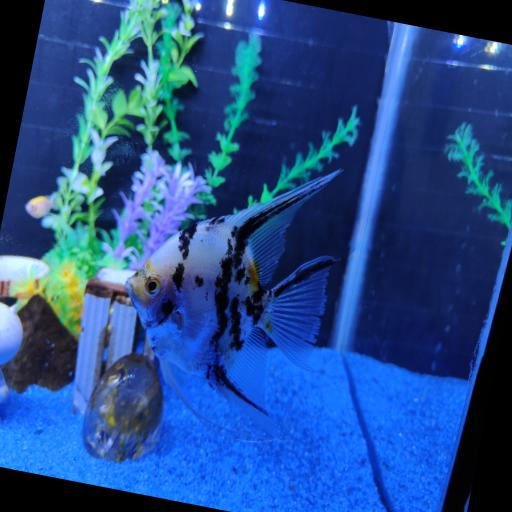Fish: (125, 171, 339, 436), (24, 196, 52, 218)
